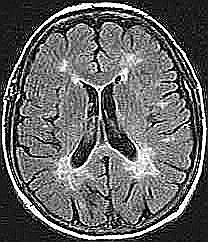Normal_Brain: (1, 1, 208, 242)
